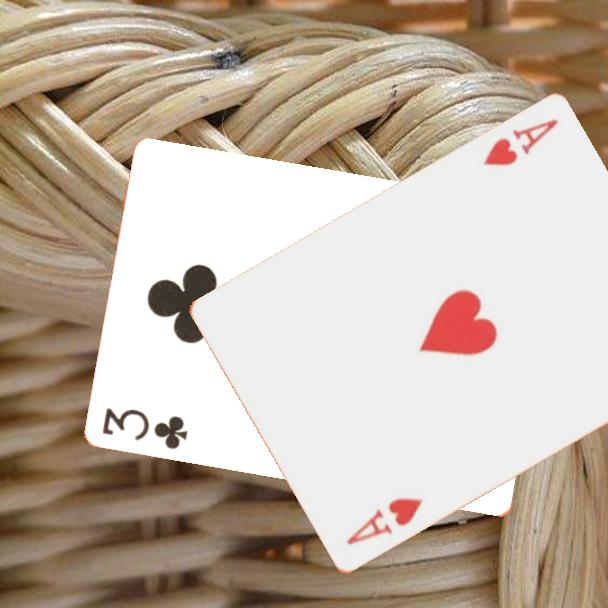c03: (99, 404, 191, 452)
h01: (343, 495, 426, 549), (479, 116, 561, 170)
